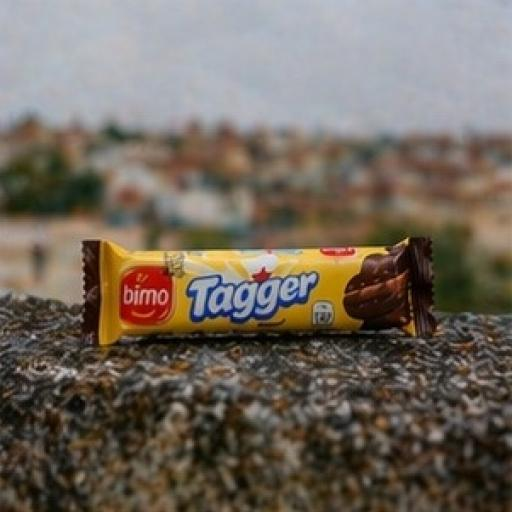tagger: (41, 177, 499, 432)
